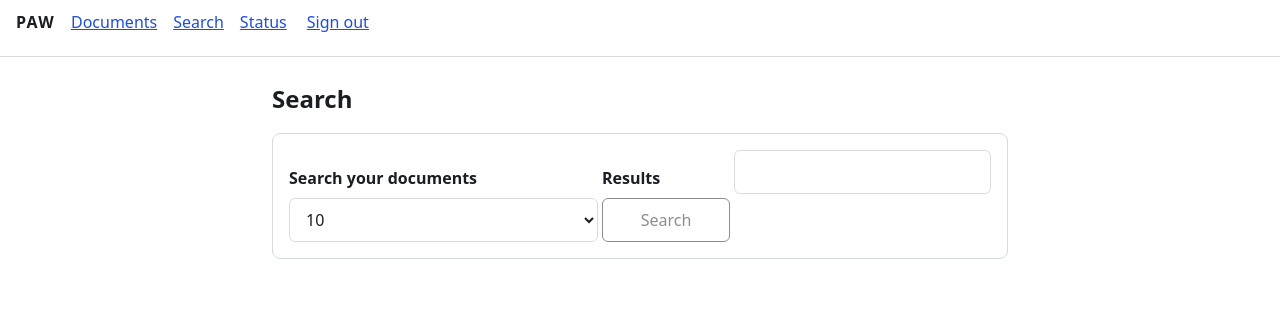
Test: shows a friendly rate-limit message
Step 1. Type "widget" into the search field labelled "Search your documents" → (862, 172), box [734,150,991,194]
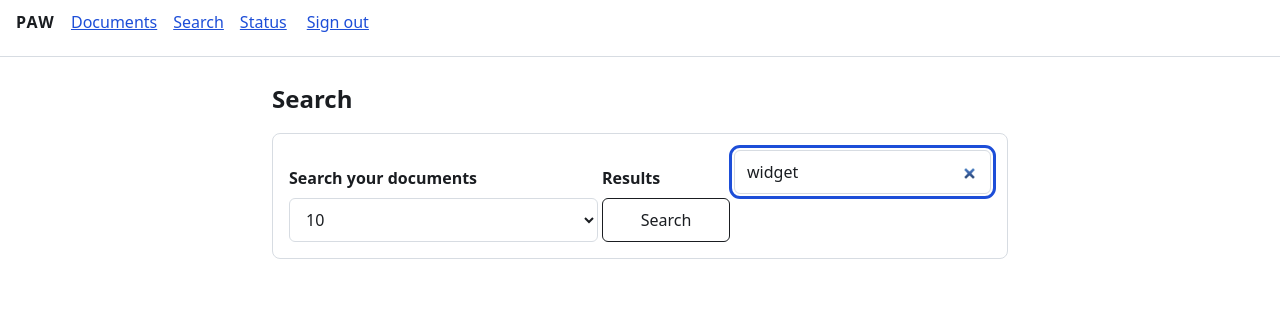
Step 2. Click the button "Search" → (666, 220), box [602,198,730,242]
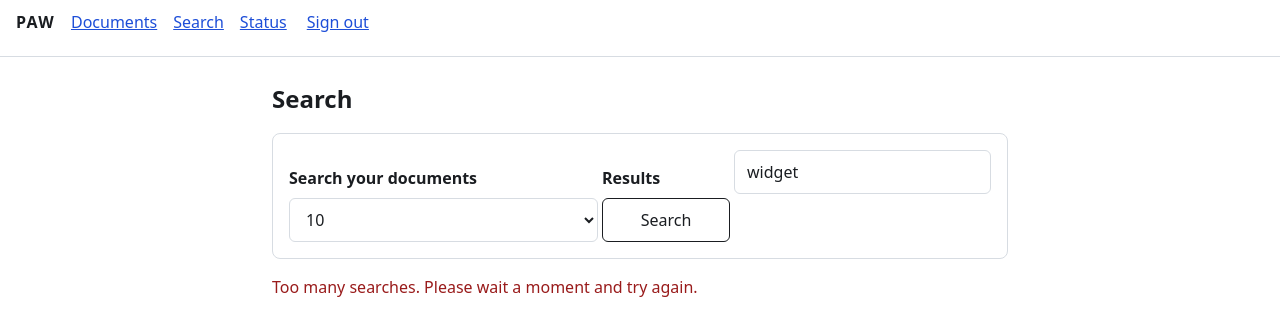
Now the message shows "Too many searches", box [272,276,698,298]
